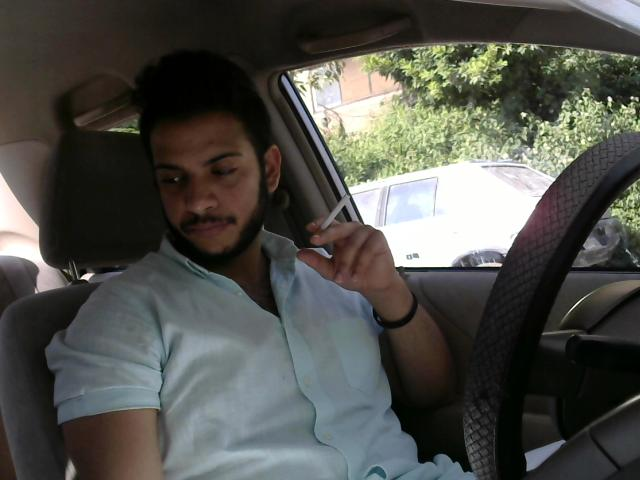Smoking: (312, 194, 350, 241)
